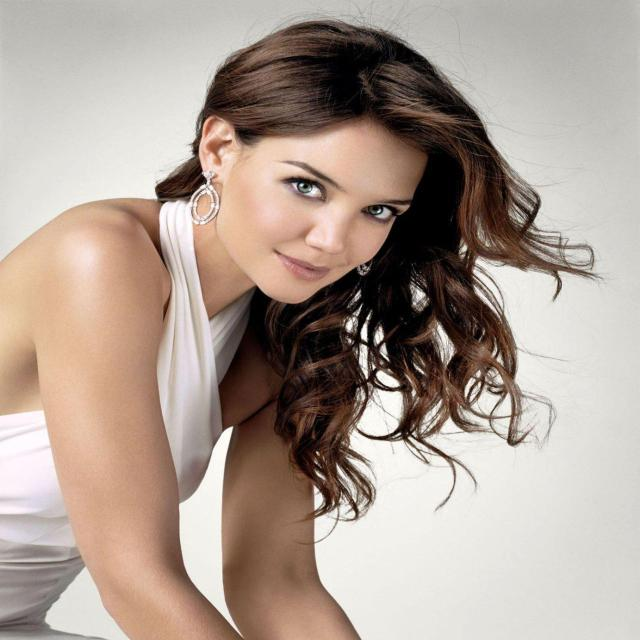no-earmuff: (178, 105, 258, 199)
